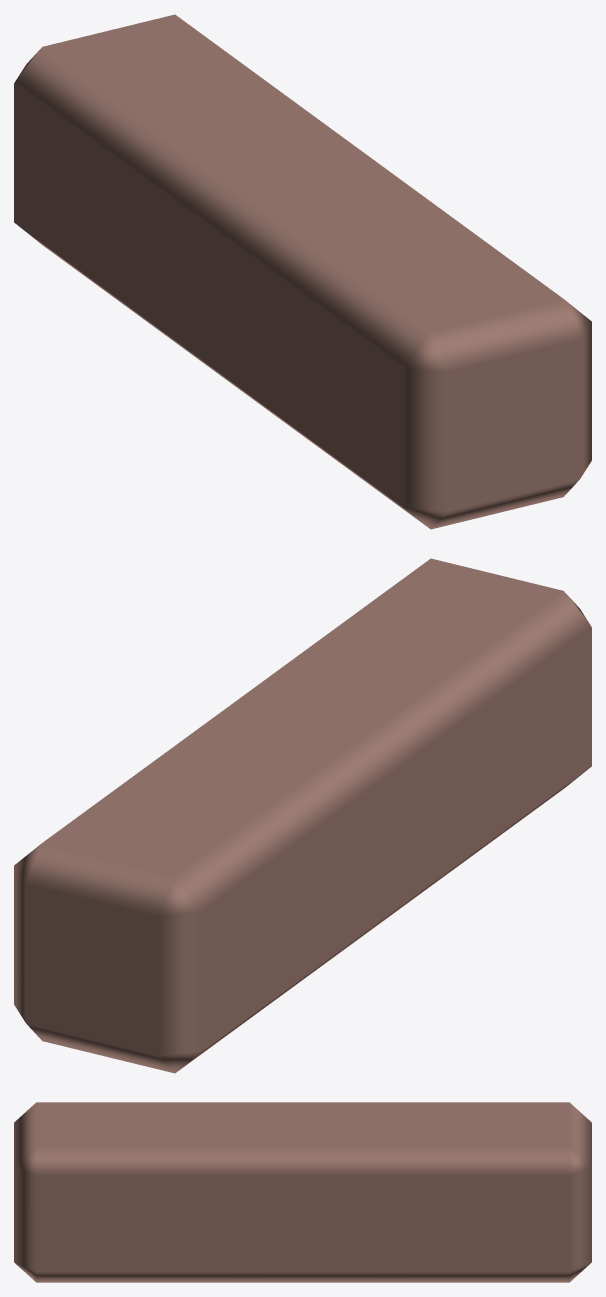
Rendered from WoodPiece01.fbx.
The picture shows the model from 3 angles, top to bottom: view 1: azimuth 30°, elevation 25°; view 2: azimuth 150°, elevation 25°; view 3: azimuth 270°, elevation 25°; orthographic projection. The views are drawn at different scales.
Visible parts, largest first — view 1: WoodPiece01; view 2: WoodPiece01; view 3: WoodPiece01.
Boxes of the visible parts, bbox=[...] form: WoodPiece01: bbox=[14, 14, 591, 529]; WoodPiece01: bbox=[14, 558, 591, 1073]; WoodPiece01: bbox=[14, 1102, 591, 1282].
Size of the model in its own units: 10 by 10 by 38.5.
